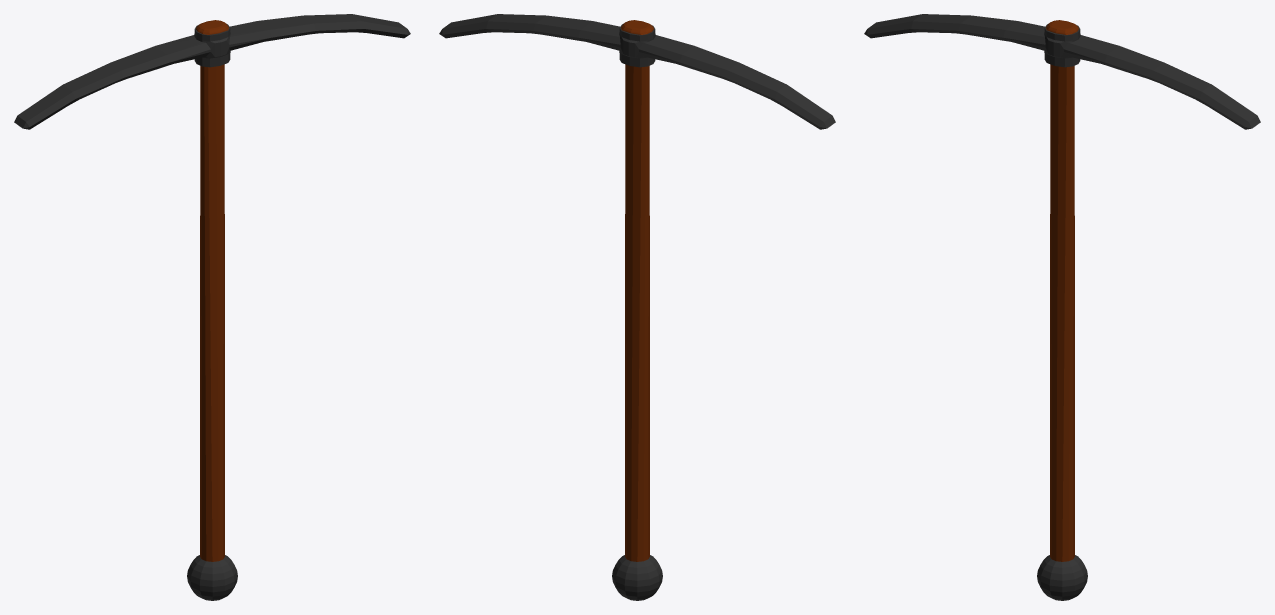
File: MetalPickaxe.fbx
3 views of the same model, side by side, from view 1: azimuth 30°, elevation 25°; view 2: azimuth 150°, elevation 25°; view 3: azimuth 330°, elevation 25° (orthographic).
Parts seen in each view (by area): view 1: Sphere; view 2: Sphere; view 3: Sphere.
Part boxes in pixels (x1,y1,x2,y2): Sphere: [14, 14, 410, 600]; Sphere: [439, 14, 835, 600]; Sphere: [864, 14, 1260, 600].
Size of the model in its own units: 70 by 98.88 by 8.
